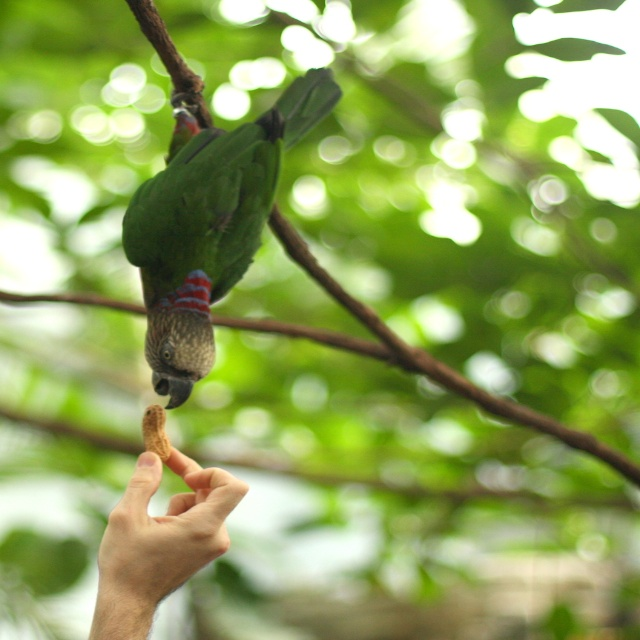Parrot: (122, 66, 345, 415)
